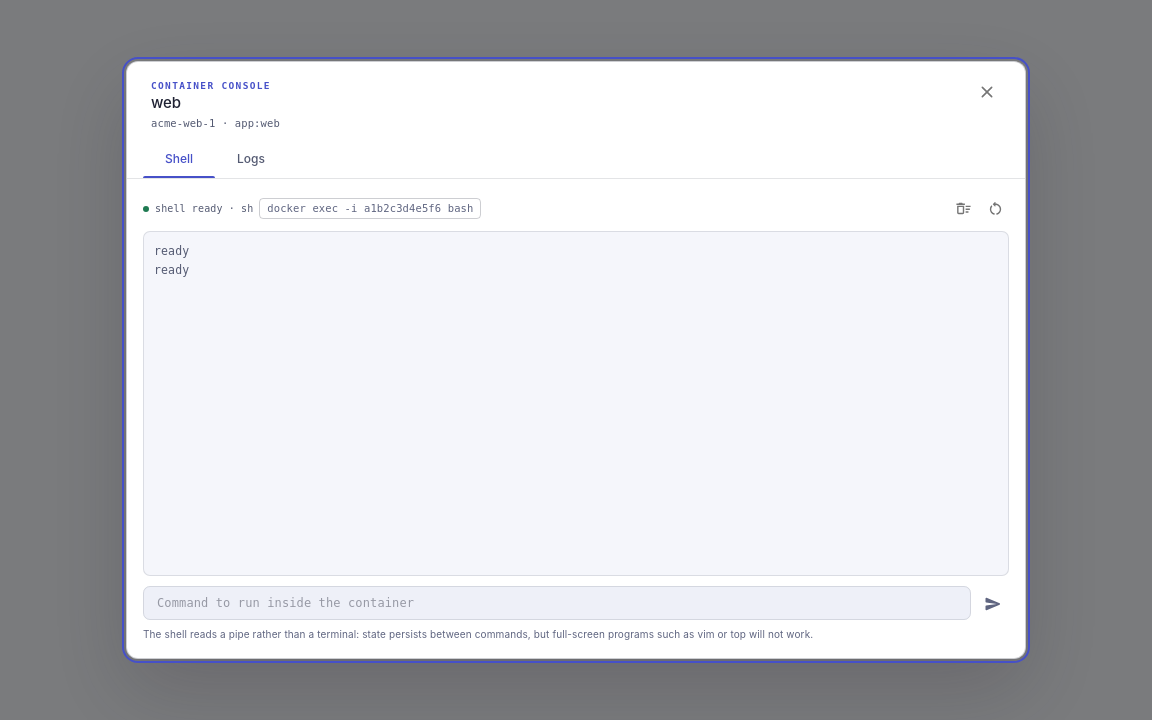
Test: ContainerConsoleDialog › follows logs on the other tab and offers no way to type into them
Click the tab "Logs". click: (251, 158)
box: [215,139,287,178]
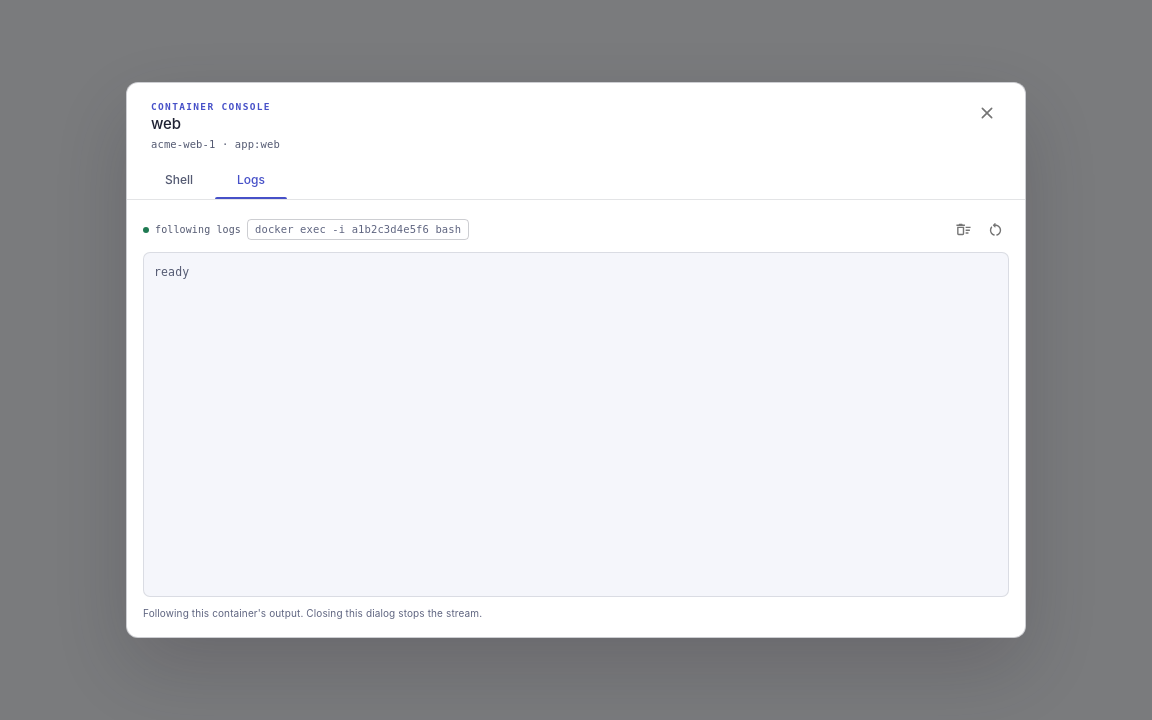
expect the field labelled "Command to run inside the container" is not shown: met
expect the text named "Container log output" reads "ready": met, box [154,265,189,279]
expect the text "Following this container's output" is shown: met, box [143,607,482,619]
